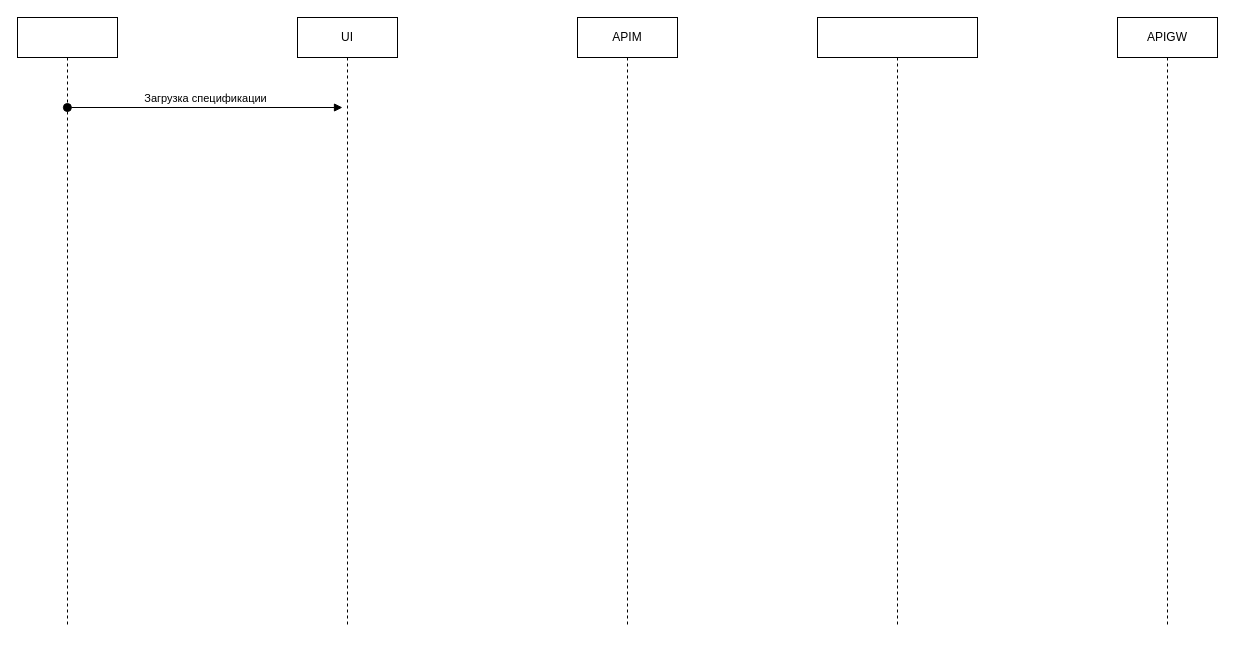
Some shapes in this 1235 by 645 pixel diagram are drawn without their labels. The shapes that lost their labels are listed below. From the top down, each one's box as (x1, y1, x2, y2) in pixels, then its label:
(16, 16, 118, 628): superuser
(816, 16, 978, 628): БД
